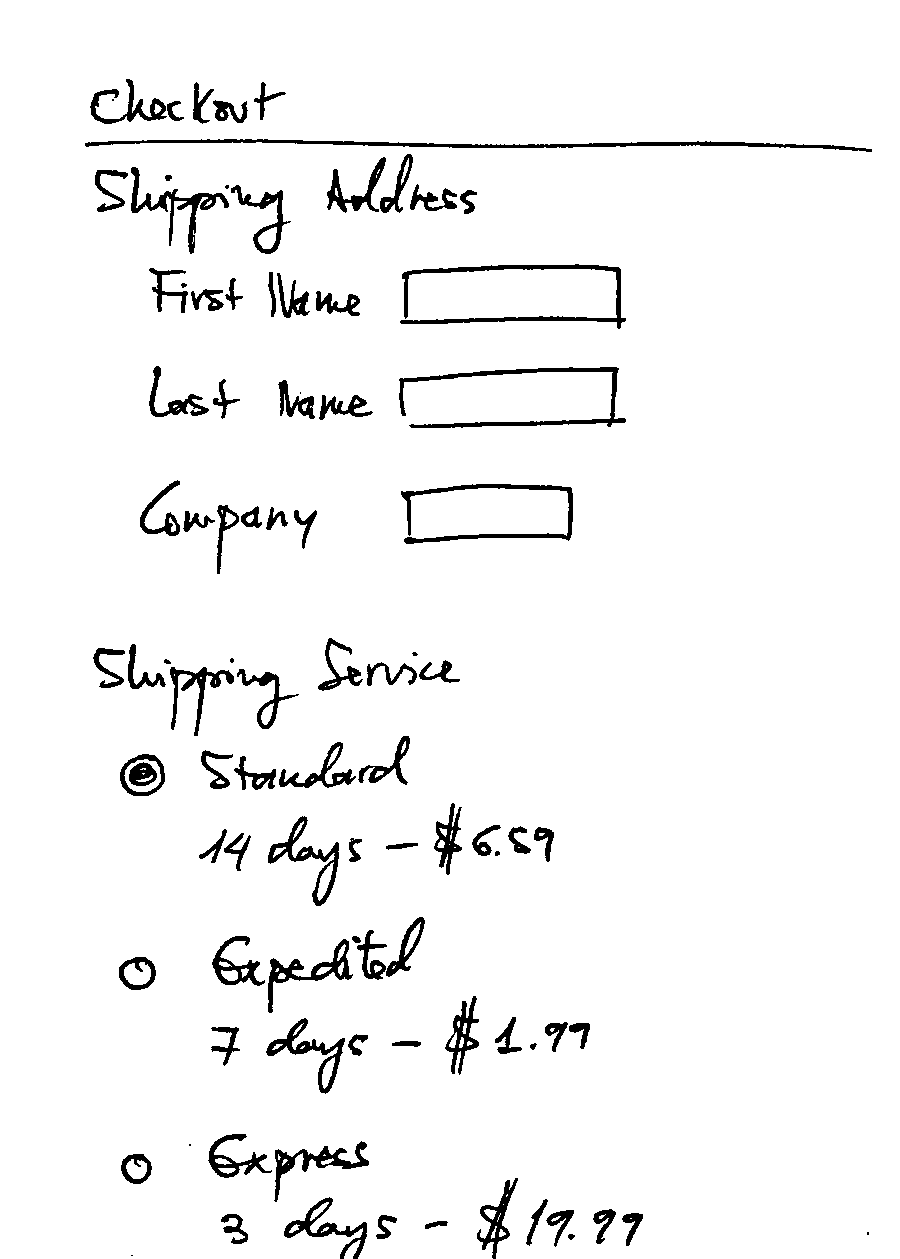Label: (142, 355, 384, 436), (147, 257, 372, 340)
Radio Button: (113, 732, 417, 804)
Textbox: (394, 254, 626, 334), (392, 359, 622, 430), (394, 473, 576, 548)
